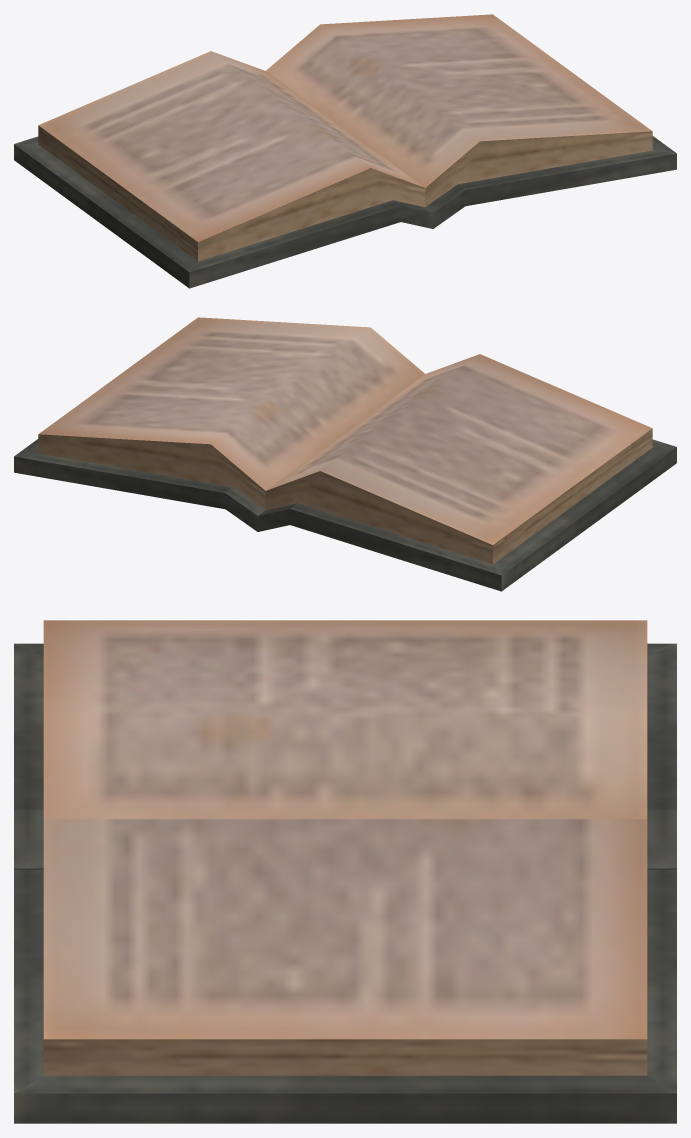
The model's file is Book_D.fbx.
The picture shows the model from 3 angles, top to bottom: view 1: azimuth 30°, elevation 25°; view 2: azimuth 150°, elevation 25°; view 3: azimuth 270°, elevation 25°; orthographic projection. The views are drawn at different scales.
Visible parts, largest first — view 1: Book_D; view 2: Book_D; view 3: Book_D.
Part boxes in pixels (x1,y1,x2,y2): Book_D: (14,14,676,288); Book_D: (14,317,676,591); Book_D: (14,620,676,1123).
Size of the model in its own units: 0.1561 by 0.021 by 0.0973.
